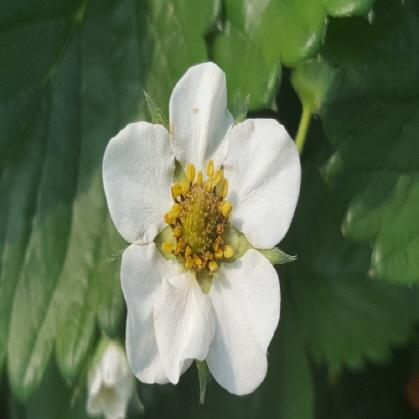Blossom Blight: (161, 158, 237, 277)
